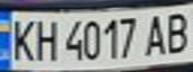0: (81, 16, 103, 61)
1: (100, 16, 121, 60)
4: (60, 16, 84, 62)
7: (118, 13, 142, 60)
A: (139, 10, 172, 57)
B: (160, 8, 193, 55)
H: (30, 16, 60, 62)
K: (3, 16, 39, 62)
